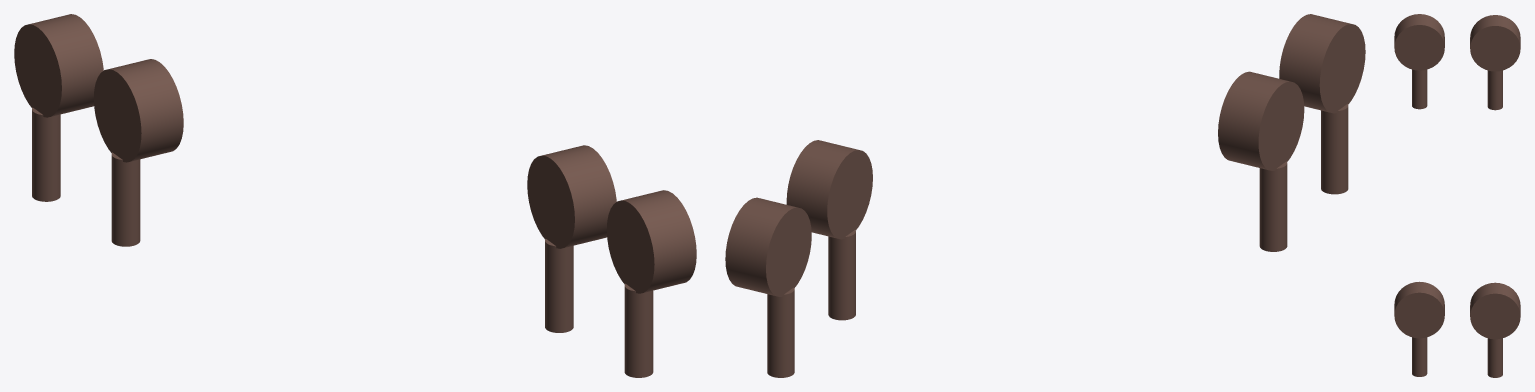
The model's file is GCC-AAV-13220-30(1).fbx.
3 renders of one model, left to right at view 1: azimuth 30°, elevation 25°; view 2: azimuth 150°, elevation 25°; view 3: azimuth 270°, elevation 25°, orthographic. The views are drawn at different scales.
Parts seen in each view (by area): view 1: CYLINDER 2 of EQUIPMENT /794-13220-ST-001-TG-005, CYLINDER 2 of EQUIPMENT /794-13220-ST-001-TG-006, CYLINDER 2 of EQUIPMENT /794-13220-ST-001-PG-009, CYLINDER 2 of EQUIPMENT /794-13220-ST-001-PG-010, CYLINDER 1 of EQUIPMENT /794-13220-ST-001-TG-006, CYLINDER 1 of EQUIPMENT /794-13220-ST-001-TG-005, CYLINDER 1 of EQUIPMENT /794-13220-ST-001-PG-010, CYLINDER 1 of EQUIPMENT /794-13220-ST-001-PG-009; view 2: CYLINDER 2 of EQUIPMENT /794-13220-ST-001-PG-009, CYLINDER 2 of EQUIPMENT /794-13220-ST-001-PG-010, CYLINDER 2 of EQUIPMENT /794-13220-ST-001-TG-006, CYLINDER 2 of EQUIPMENT /794-13220-ST-001-TG-005, CYLINDER 1 of EQUIPMENT /794-13220-ST-001-PG-010, CYLINDER 1 of EQUIPMENT /794-13220-ST-001-TG-006, CYLINDER 1 of EQUIPMENT /794-13220-ST-001-PG-009, CYLINDER 1 of EQUIPMENT /794-13220-ST-001-TG-005; view 3: CYLINDER 2 of EQUIPMENT /794-13220-ST-001-PG-009, CYLINDER 2 of EQUIPMENT /794-13220-ST-001-TG-005, CYLINDER 2 of EQUIPMENT /794-13220-ST-001-TG-006, CYLINDER 2 of EQUIPMENT /794-13220-ST-001-PG-010, CYLINDER 1 of EQUIPMENT /794-13220-ST-001-TG-006, CYLINDER 1 of EQUIPMENT /794-13220-ST-001-PG-010, CYLINDER 1 of EQUIPMENT /794-13220-ST-001-TG-005, CYLINDER 1 of EQUIPMENT /794-13220-ST-001-PG-009.
Boxes of the visible parts, x1,y1,x2,y2 form: CYLINDER 2 of EQUIPMENT /794-13220-ST-001-TG-005: (606,190,696,293); CYLINDER 2 of EQUIPMENT /794-13220-ST-001-TG-006: (93,59,183,162); CYLINDER 2 of EQUIPMENT /794-13220-ST-001-PG-009: (527,145,616,248); CYLINDER 2 of EQUIPMENT /794-13220-ST-001-PG-010: (14,14,103,117); CYLINDER 1 of EQUIPMENT /794-13220-ST-001-TG-006: (111,152,140,246); CYLINDER 1 of EQUIPMENT /794-13220-ST-001-TG-005: (624,283,653,377); CYLINDER 1 of EQUIPMENT /794-13220-ST-001-PG-010: (32,107,60,201); CYLINDER 1 of EQUIPMENT /794-13220-ST-001-PG-009: (545,239,573,332); CYLINDER 2 of EQUIPMENT /794-13220-ST-001-PG-009: (725,197,811,296); CYLINDER 2 of EQUIPMENT /794-13220-ST-001-PG-010: (1218,71,1304,170); CYLINDER 2 of EQUIPMENT /794-13220-ST-001-TG-006: (1279,14,1365,113); CYLINDER 2 of EQUIPMENT /794-13220-ST-001-TG-005: (786,140,872,239); CYLINDER 1 of EQUIPMENT /794-13220-ST-001-PG-010: (1259,161,1287,251); CYLINDER 1 of EQUIPMENT /794-13220-ST-001-TG-006: (1321,104,1348,194); CYLINDER 1 of EQUIPMENT /794-13220-ST-001-PG-009: (767,287,794,377); CYLINDER 1 of EQUIPMENT /794-13220-ST-001-TG-005: (828,230,855,320); CYLINDER 2 of EQUIPMENT /794-13220-ST-001-PG-009: (1470,282,1520,339); CYLINDER 2 of EQUIPMENT /794-13220-ST-001-TG-005: (1394,281,1444,338); CYLINDER 2 of EQUIPMENT /794-13220-ST-001-TG-006: (1394,14,1444,70); CYLINDER 2 of EQUIPMENT /794-13220-ST-001-PG-010: (1470,15,1520,71); CYLINDER 1 of EQUIPMENT /794-13220-ST-001-TG-006: (1412,69,1427,109); CYLINDER 1 of EQUIPMENT /794-13220-ST-001-PG-010: (1487,70,1502,110); CYLINDER 1 of EQUIPMENT /794-13220-ST-001-TG-005: (1412,337,1427,376); CYLINDER 1 of EQUIPMENT /794-13220-ST-001-PG-009: (1487,338,1502,377).
Bounding box in the file's own units: 26.99 × 19.65 × 9.84.
